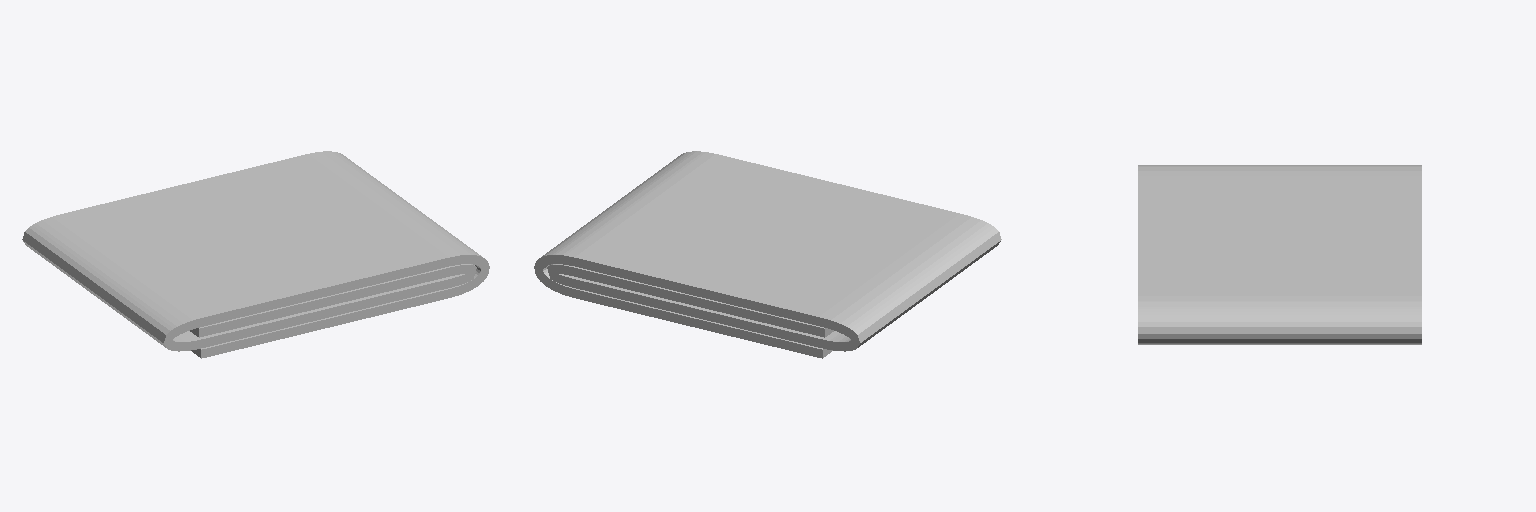
Rendered from odeialo.obj.
3 views of the same model, side by side, from view 1: azimuth 30°, elevation 25°; view 2: azimuth 150°, elevation 25°; view 3: azimuth 270°, elevation 25° (orthographic).
Visible parts, largest first — view 1: Cube; view 2: Cube; view 3: Cube.
Boxes of the visible parts, box(x1,y1,x2,y2) form: Cube: box(22, 151, 489, 358); Cube: box(534, 151, 1001, 358); Cube: box(1138, 165, 1421, 344).
Bounding box in the file's own units: 2.66 × 0.3175 × 2.